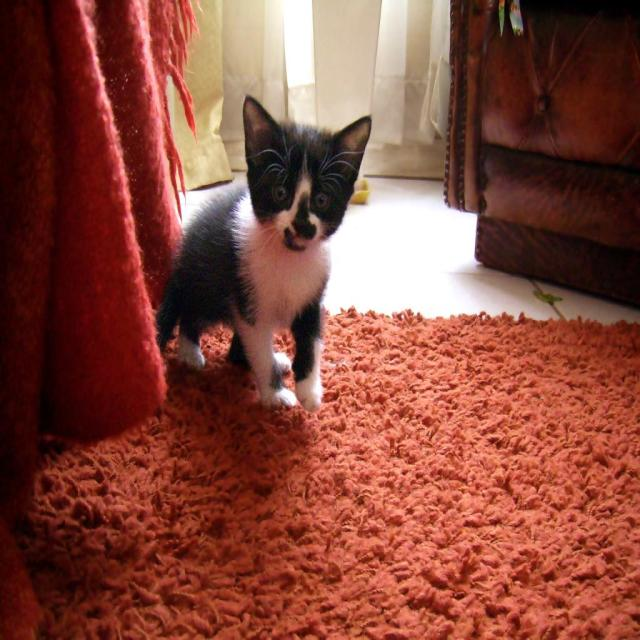Cat: (151, 90, 374, 412)
